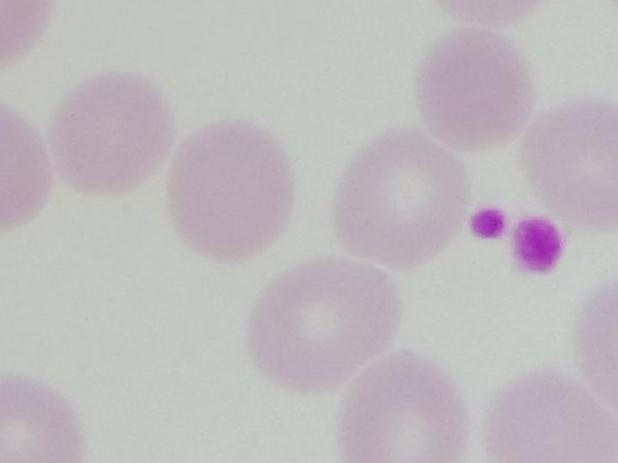Uninfected: (247, 256, 399, 393), (333, 130, 471, 267), (168, 119, 295, 261), (47, 72, 169, 195), (337, 351, 469, 462), (418, 27, 534, 147), (524, 97, 618, 226), (482, 370, 613, 460), (3, 374, 86, 462)
